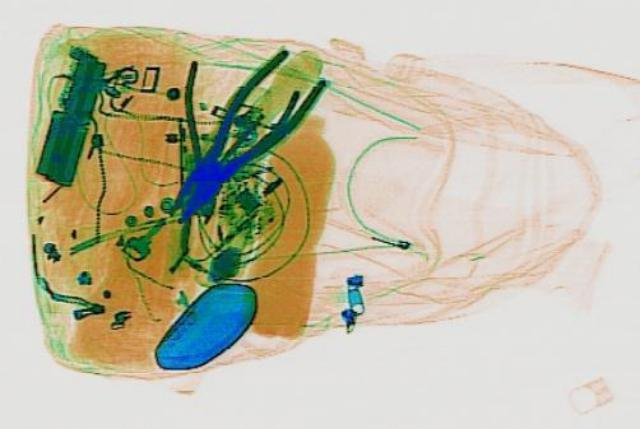Pliers: (139, 43, 345, 228), (115, 57, 307, 224)
